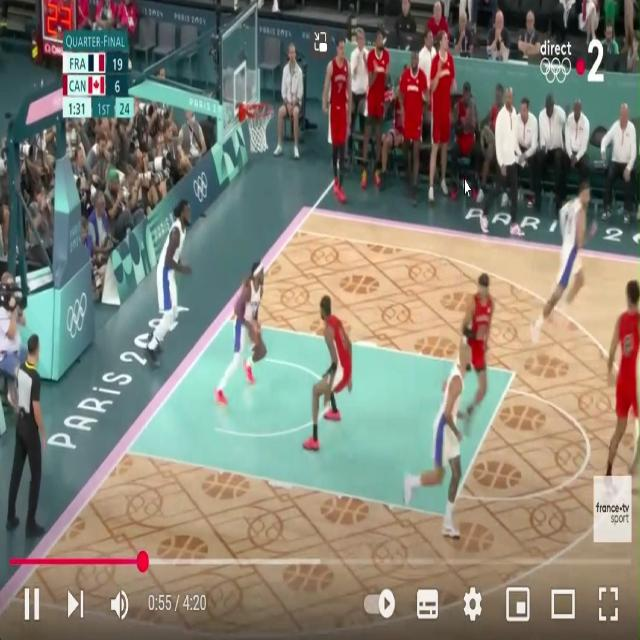ball_handler: (230, 262, 268, 399)
